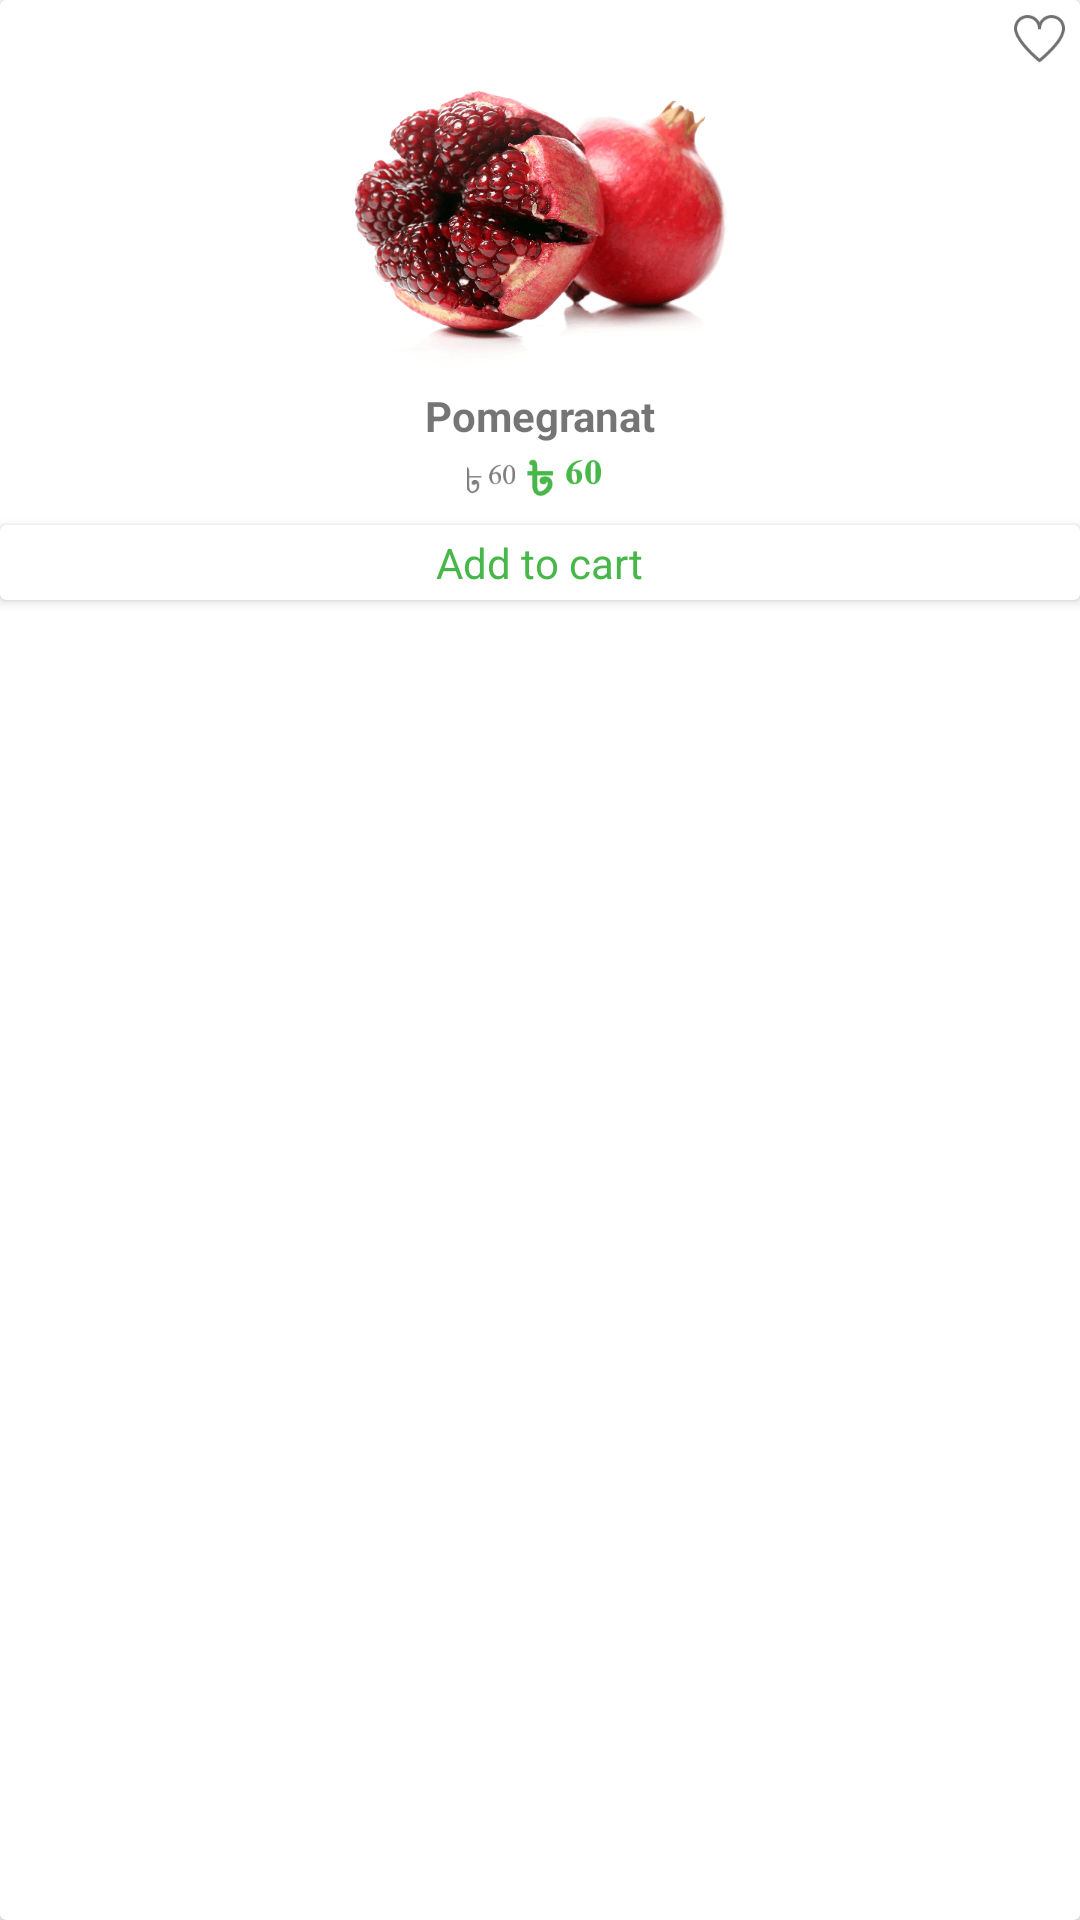

Icon click points for this 1080px×1920px phone screenshot, format (x=x, y=y):
heart: (x=1039, y=39)
